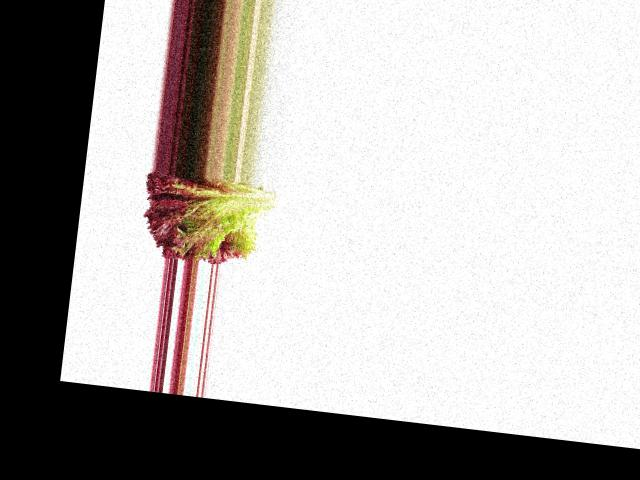lettuce: (130, 170, 282, 269)
